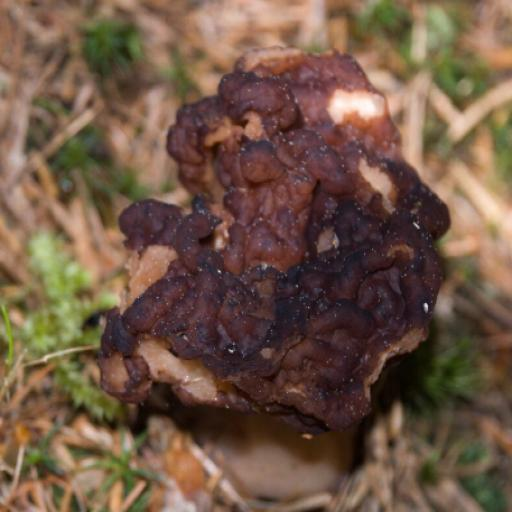mushroom: (97, 36, 451, 441)
